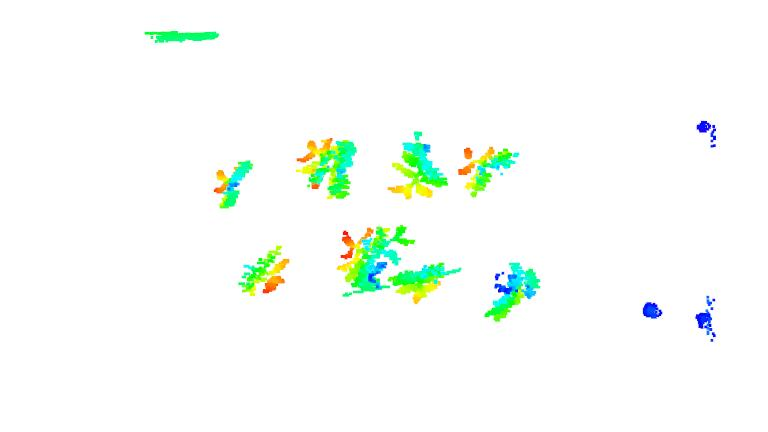chickpea: (335, 224, 415, 294), (385, 129, 447, 202), (294, 136, 360, 201), (454, 143, 523, 200), (481, 258, 541, 323), (387, 257, 463, 307), (235, 243, 293, 299), (211, 158, 255, 210)
